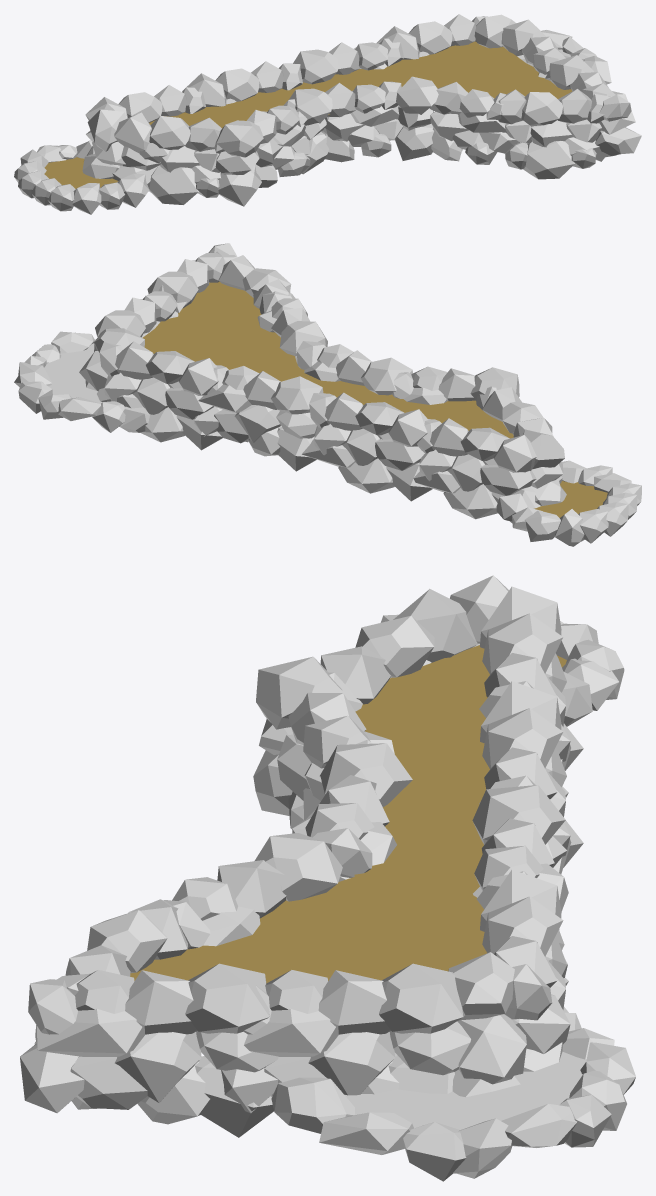
3 renders of one model, top to bottom at view 1: azimuth 30°, elevation 25°; view 2: azimuth 150°, elevation 25°; view 3: azimuth 270°, elevation 25°, orthographic. The views are drawn at different scales.
Visible parts, largest first — view 1: SM_B_10; view 2: SM_B_10; view 3: SM_B_10.
Boxes of the visible parts, x1=… form: SM_B_10: x1=14, y1=14, x2=641, y2=214; SM_B_10: x1=14, y1=243, x2=641, y2=546; SM_B_10: x1=20, y1=575, x2=635, y2=1181.
Size of the model in its own units: 753 by 103 by 357.
